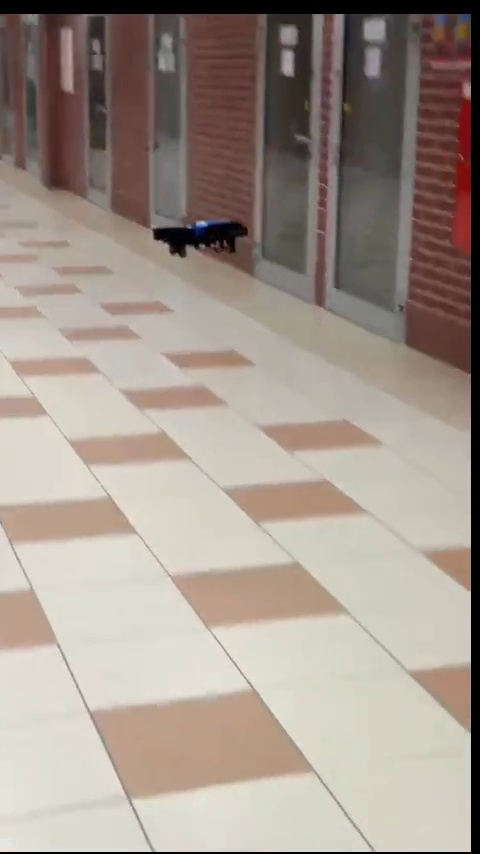drone: (152, 219, 246, 259)
